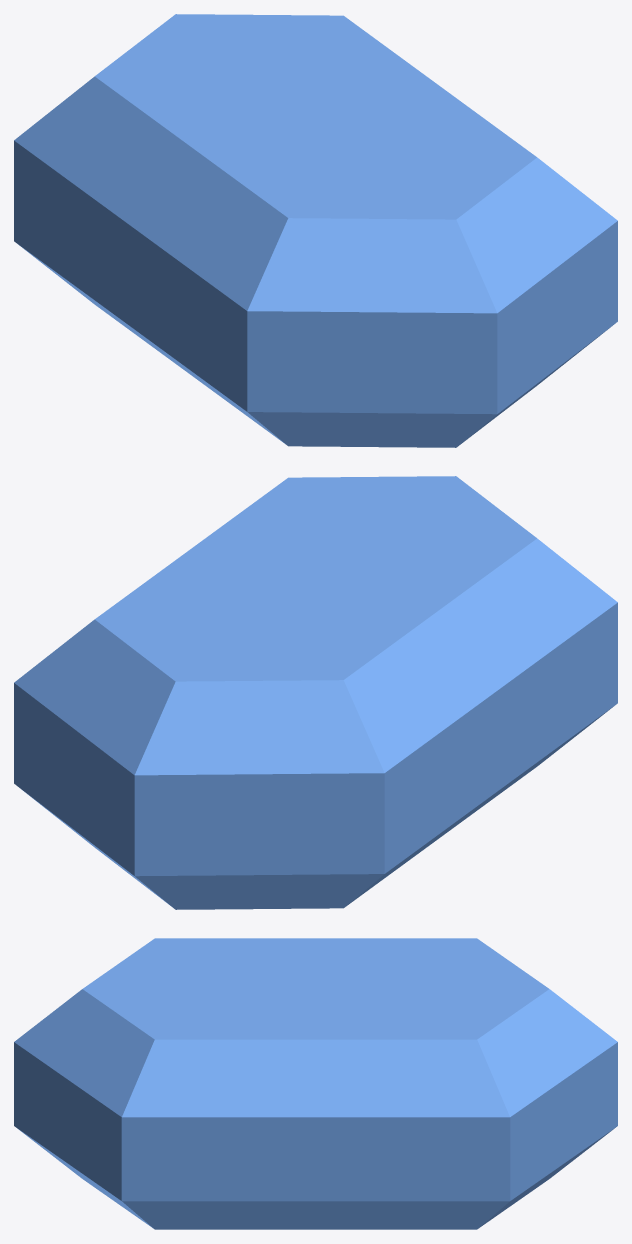
Rendered from Crystal_Blue_C.fbx.
The picture shows the model from 3 angles, top to bottom: view 1: azimuth 30°, elevation 25°; view 2: azimuth 150°, elevation 25°; view 3: azimuth 270°, elevation 25°; orthographic projection. The views are drawn at different scales.
Visible parts, largest first — view 1: Crystal_Blue_C; view 2: Crystal_Blue_C; view 3: Crystal_Blue_C.
Boxes of the visible parts, x1,y1,x2,y2 form: Crystal_Blue_C: [14, 14, 617, 447]; Crystal_Blue_C: [14, 476, 617, 909]; Crystal_Blue_C: [14, 938, 617, 1229].
Bounding box in the file's own units: 85.49 × 50.3 × 145.
